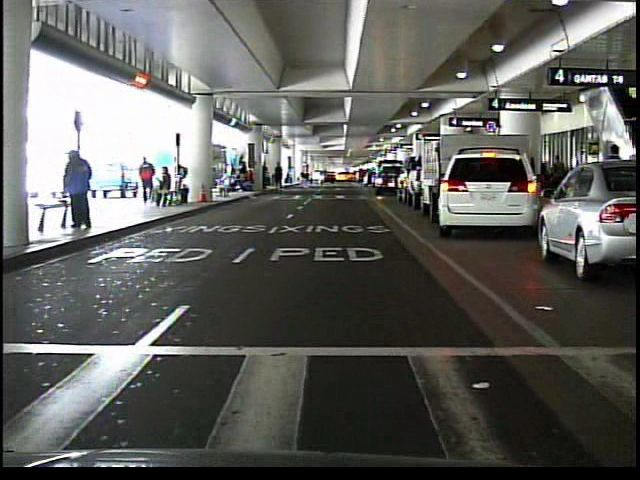person: (66, 144, 101, 236), (215, 169, 233, 204), (297, 163, 312, 192)
